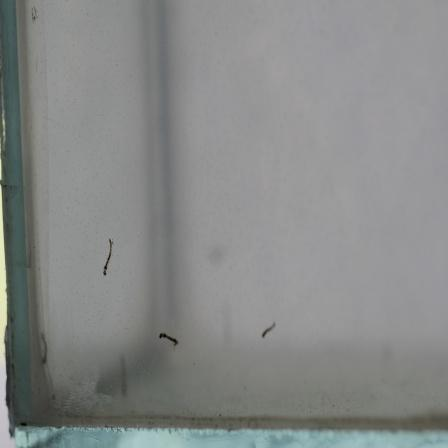Jentik-Nyamuk: (101, 234, 116, 279), (155, 327, 180, 349), (259, 319, 280, 341)
